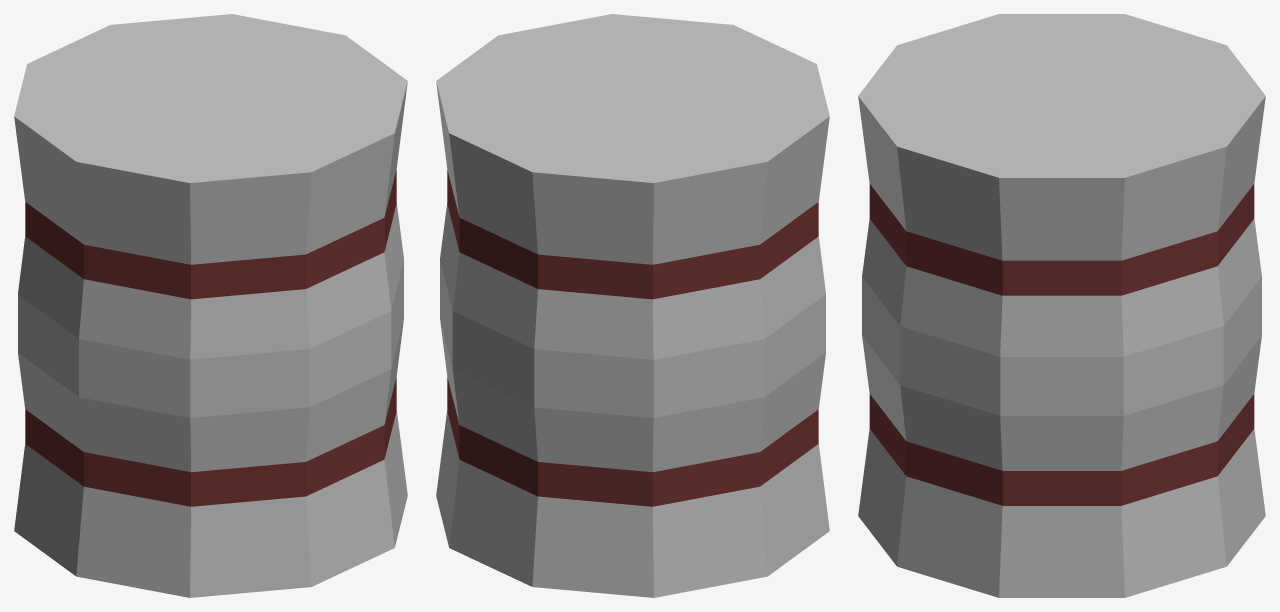
File: bandages.glb
The picture shows the model from 3 angles, left to right: view 1: azimuth 30°, elevation 25°; view 2: azimuth 150°, elevation 25°; view 3: azimuth 270°, elevation 25°; orthographic projection.
Parts seen in each view (by area): view 1: Bandages; view 2: Bandages; view 3: Bandages.
Boxes of the visible parts, x1=… form: Bandages: x1=14, y1=14, x2=407, y2=597; Bandages: x1=436, y1=14, x2=829, y2=597; Bandages: x1=858, y1=14, x2=1265, y2=597.
Bounding box in the file's own units: 0.3023 × 0.3615 × 0.3179.
